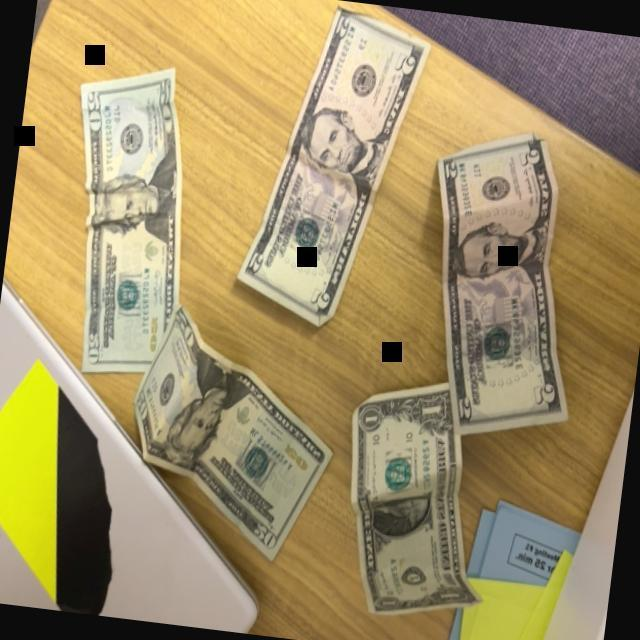five: (235, 3, 431, 329), (436, 130, 570, 435)
one: (350, 381, 483, 617)
twenty: (132, 304, 333, 562), (80, 66, 182, 372)
